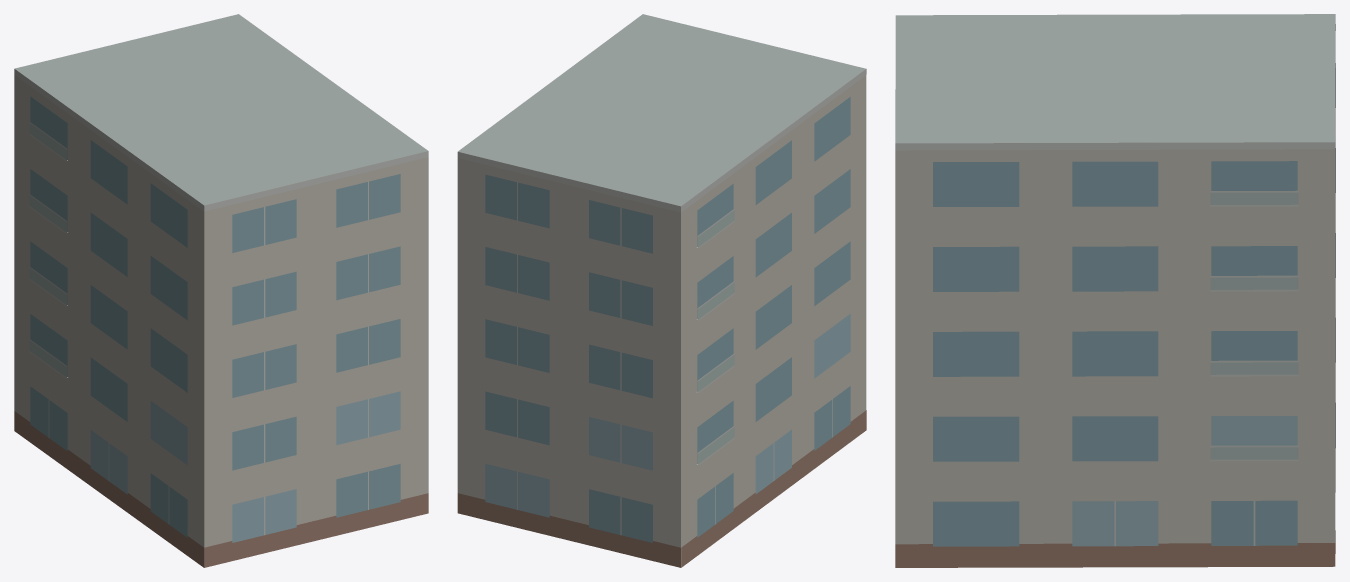
File: survey-upis-32891600.glb
The picture shows the model from 3 angles, left to right: view 1: azimuth 30°, elevation 25°; view 2: azimuth 150°, elevation 25°; view 3: azimuth 270°, elevation 25°; orthographic projection. The views are drawn at different scales.
Parts seen in each view (by area): view 1: survey-upis-32891600.tmp; view 2: survey-upis-32891600.tmp; view 3: survey-upis-32891600.tmp.
Part boxes in pixels (x1,y1,x2,y2): survey-upis-32891600.tmp: (14,14,428,567); survey-upis-32891600.tmp: (457,14,866,567); survey-upis-32891600.tmp: (895,14,1335,567).
Bounding box in the file's own units: 9.51 × 14.5 × 13.65.
